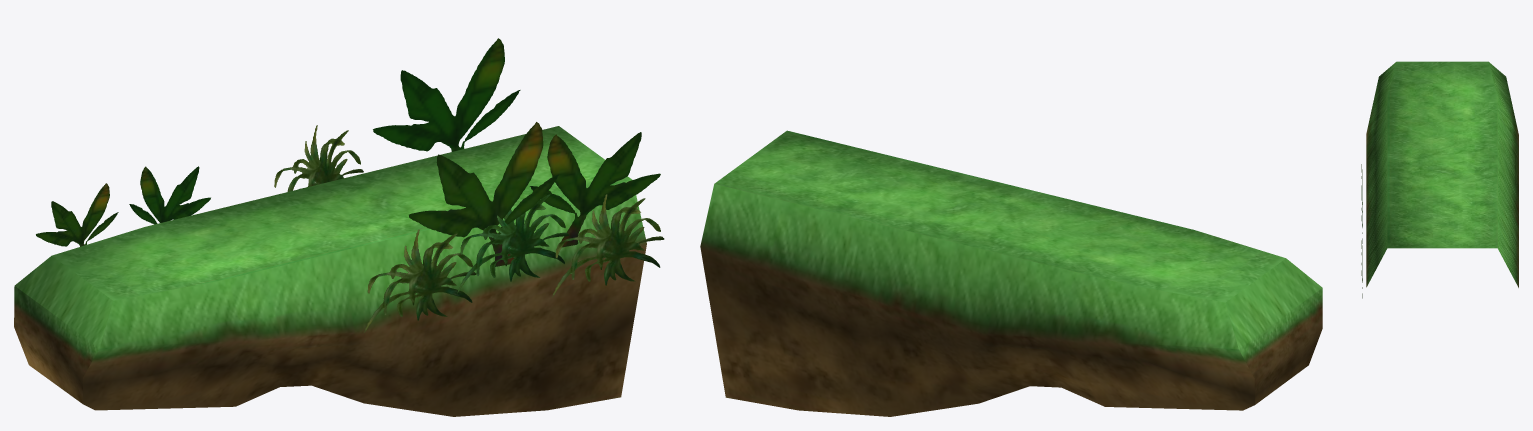
The model's file is vine_end.glb.
The picture shows the model from 3 angles, left to right: view 1: azimuth 30°, elevation 25°; view 2: azimuth 150°, elevation 25°; view 3: azimuth 270°, elevation 25°; orthographic projection. The views are drawn at different scales.
Parts seen in each view (by area): view 1: end_platform, pPlane5, pPlane6, pPlane2, pPlane4, pPlane3, pPlane1, pPlane8, pPlane7, pPlane9; view 2: end_platform; view 3: end_platform.
Boxes of the visible parts, bbox=[...] form: end_platform: bbox=[14, 126, 646, 416]; pPlane5: bbox=[409, 122, 558, 266]; pPlane6: bbox=[373, 38, 520, 151]; pPlane2: bbox=[529, 132, 660, 247]; pPlane4: bbox=[552, 194, 664, 297]; pPlane3: bbox=[364, 229, 476, 332]; pPlane1: bbox=[457, 194, 569, 293]; pPlane8: bbox=[129, 166, 210, 224]; pPlane7: bbox=[36, 183, 118, 246]; pPlane9: bbox=[274, 125, 363, 191]; end_platform: bbox=[700, 130, 1322, 416]; end_platform: bbox=[1366, 61, 1518, 287].
Size of the model in its own units: 44.41 by 26.29 by 15.19.
Materials: 5 (5 with a texture image).
